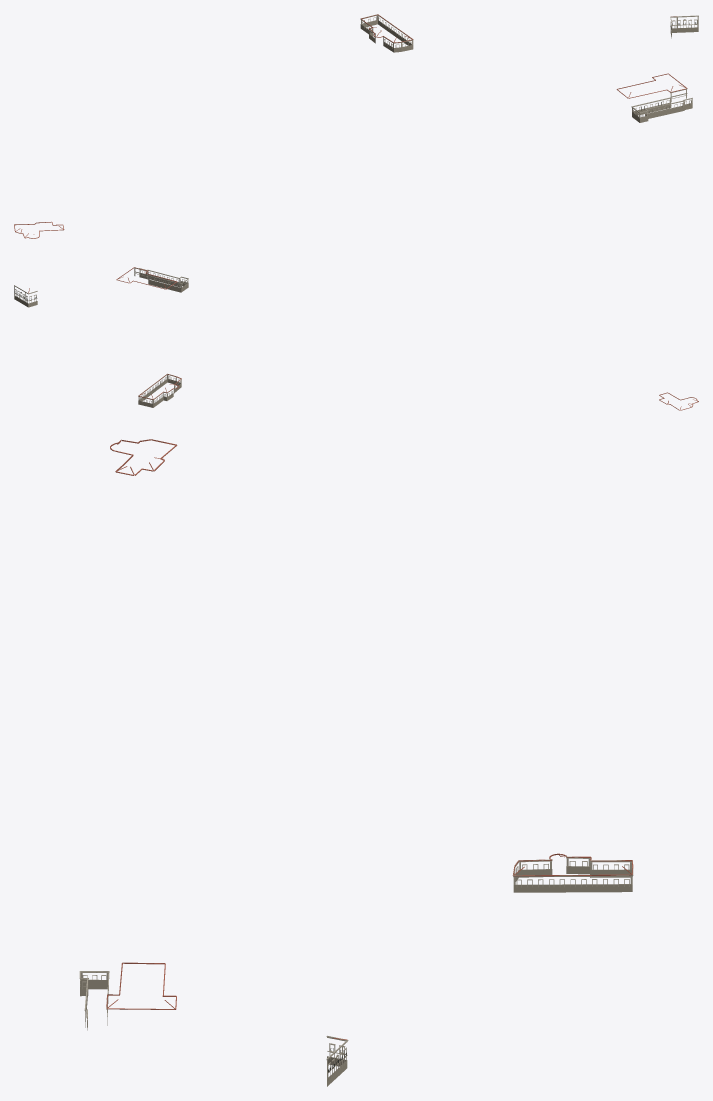
The picture shows the model from 3 angles, top to bottom: view 1: azimuth 30°, elevation 25°; view 2: azimuth 150°, elevation 25°; view 3: azimuth 270°, elevation 25°; orthographic projection. The views are drawn at different scales.
Parts seen in each view (by area): view 1: detail; view 2: detail; view 3: detail.
Part boxes in pixels (<box>): detail: <box>14,14,698,238</box>; detail: <box>14,267,698,410</box>; detail: <box>79,439,633,1086</box>.
Bounding box in the file's own units: 458 × 15.52 × 173.
